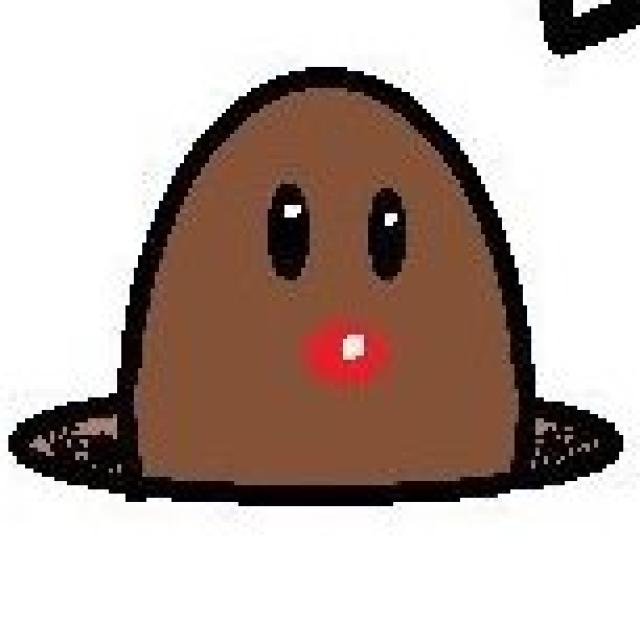Diglett: (115, 58, 541, 498)
